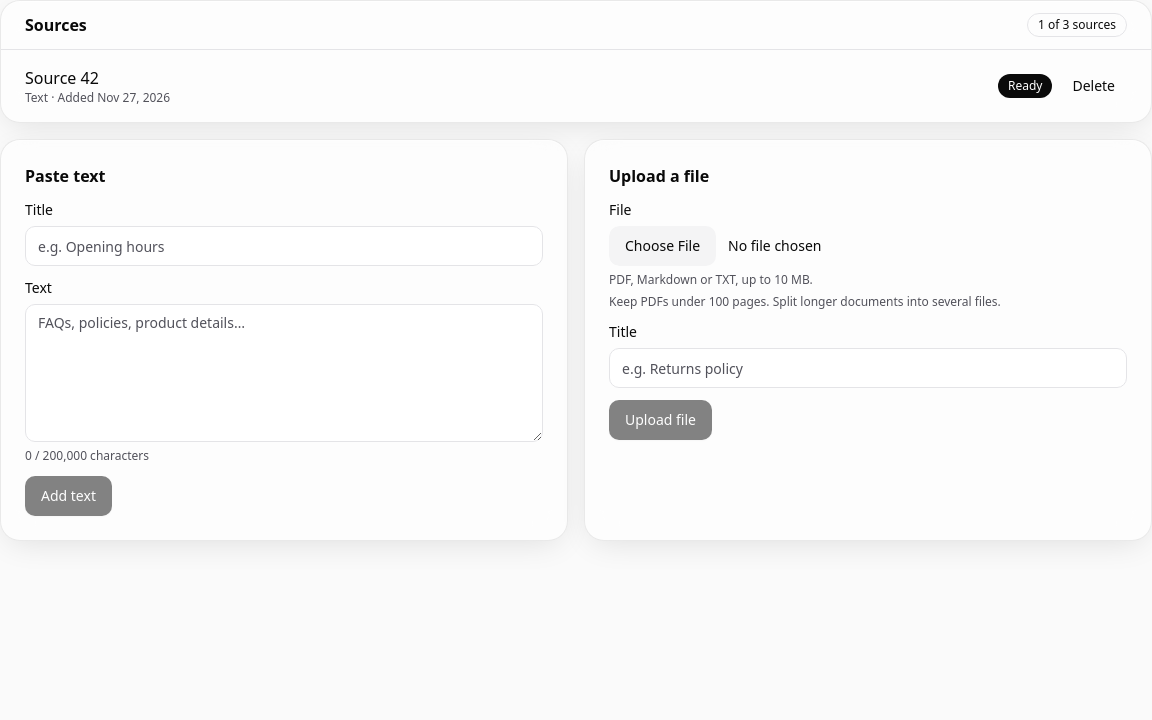
Scenario: paste › shows the limit message with a Billing link on 402
Type "Four" into the field labelled "Title" below "Paste text" at (284, 246), box [25,226,543,266]
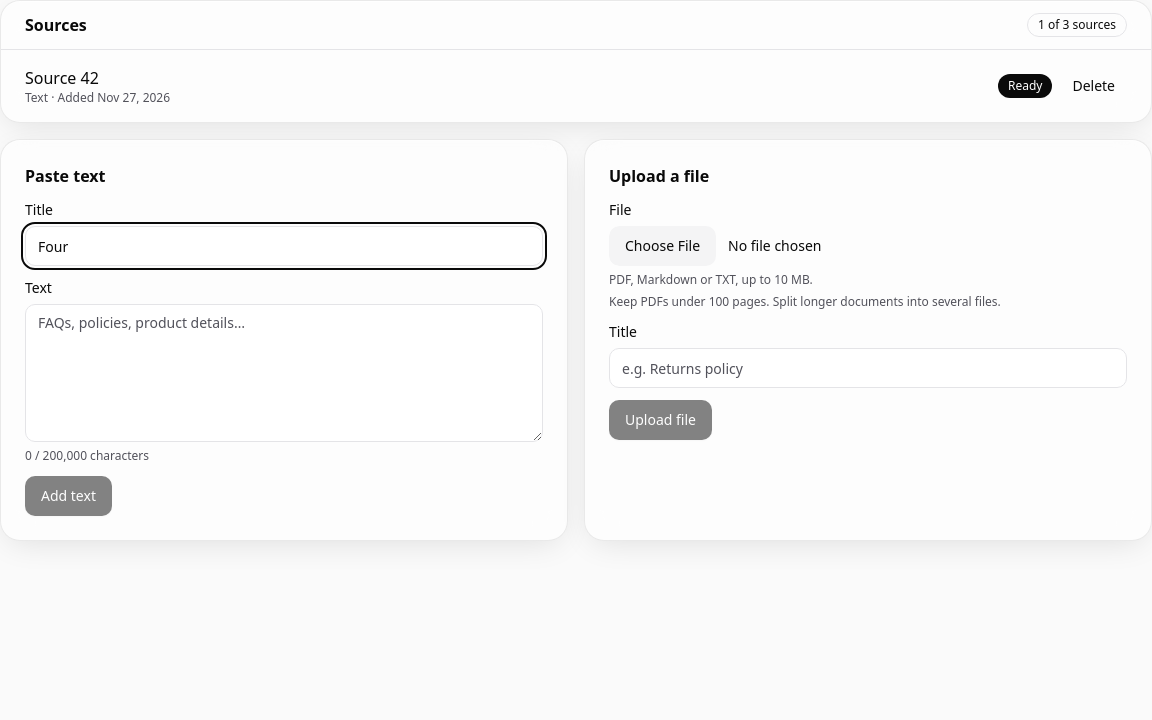
Type "x" into the text box labelled "Text" at (284, 373), box [25,304,543,442]
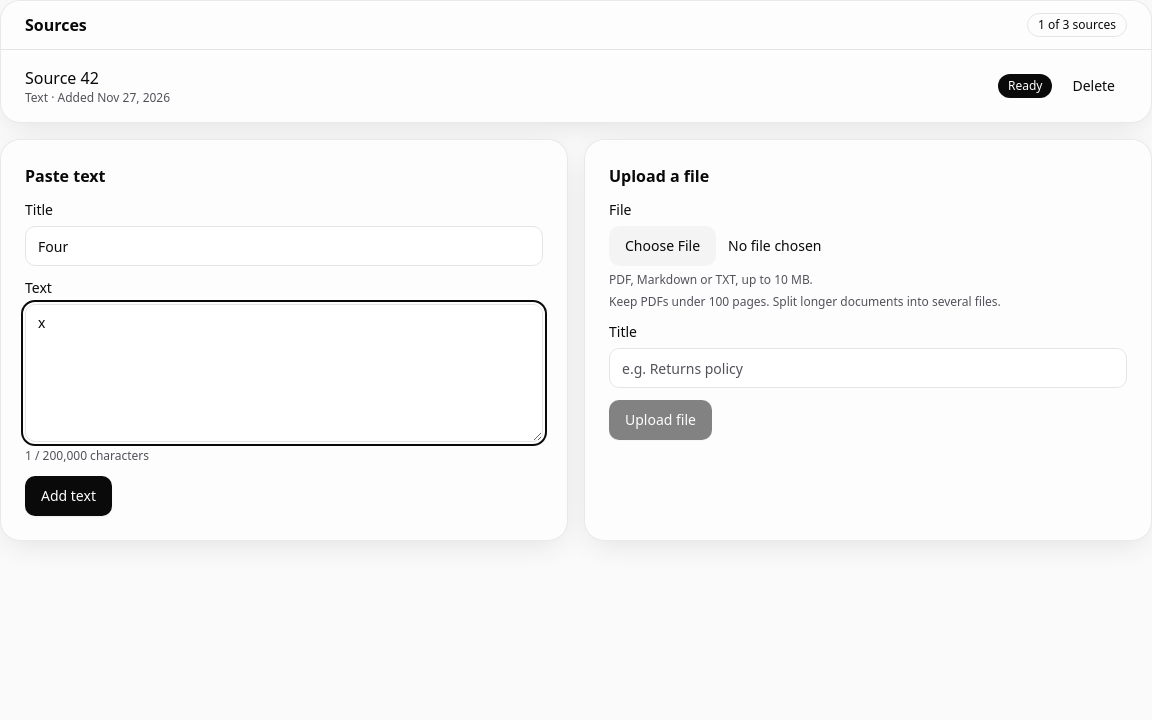
Click the button "Add text" at (68, 496), box [25,476,112,516]
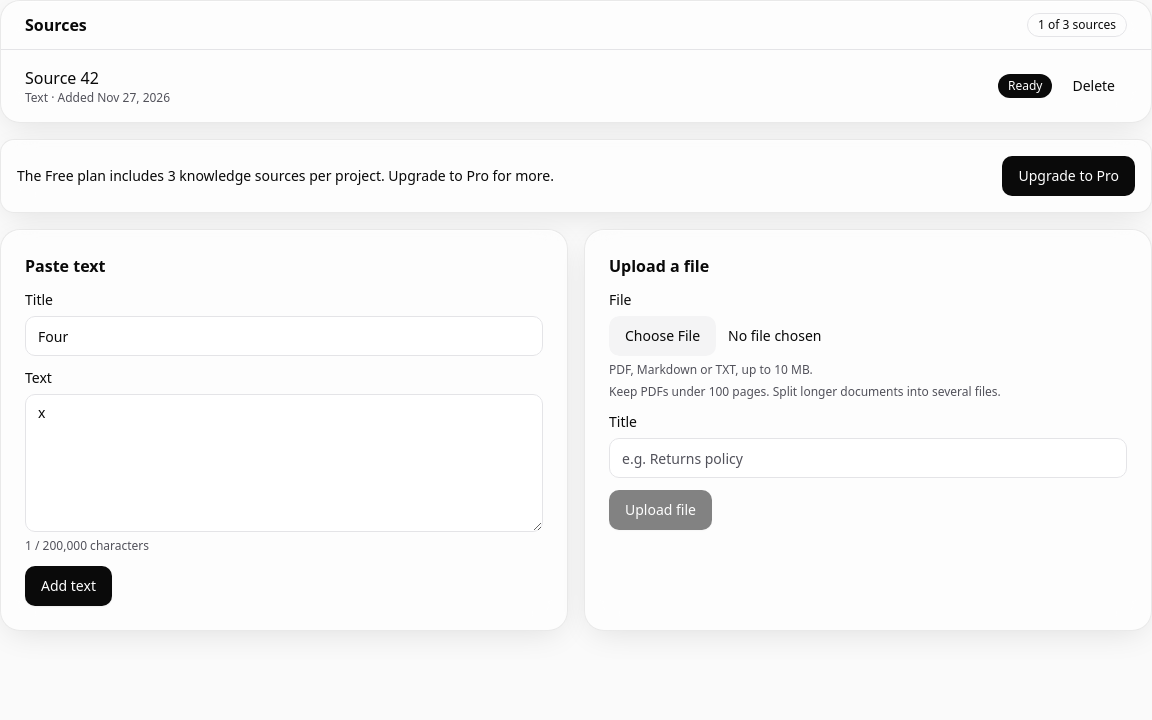
Result: the message reads "The Free plan includes 3 knowledge sources per project. Upgrade to Pro for more." at [17,166,554,185]
Result: the link "Upgrade to Pro" is shown at [1002,156,1135,196]
